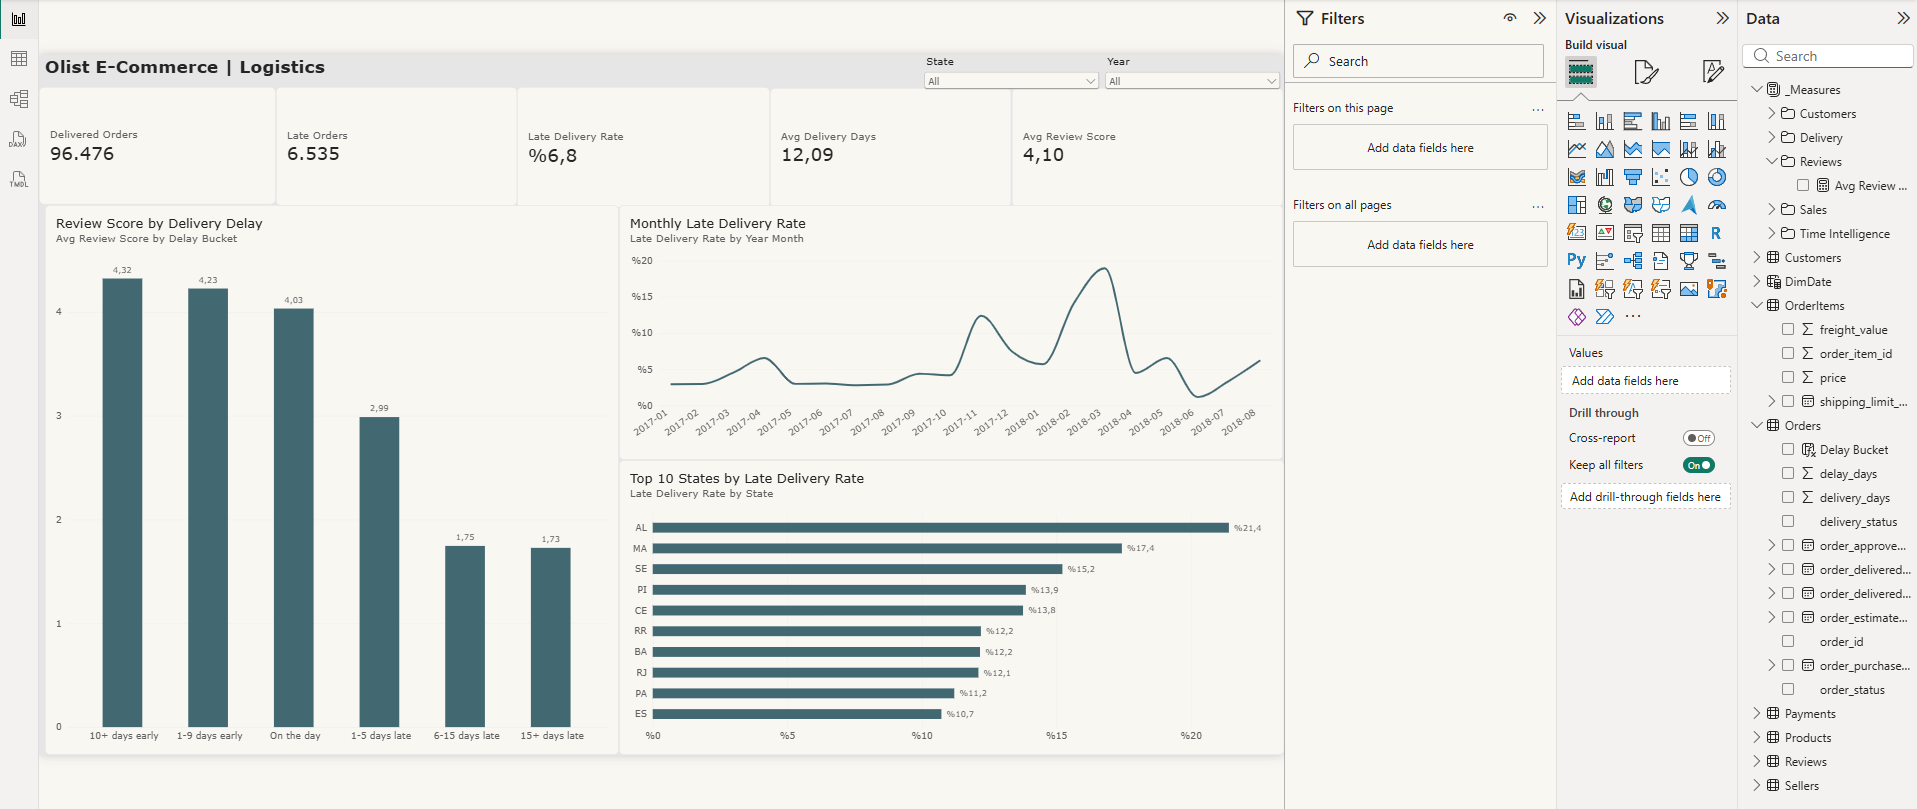

The page's visual inventory and layout, read from the dashboard file:
{"tool":"powerbi","page":{"name":"Logistics","canvas":[1920,1080],"ordinal":1},"visuals":[{"type":"textbox","box":[9.3,0,462.8,281.4],"z":0},{"type":"cardVisual","fields":{"Data":["_Measures.Delivered Orders"]},"box":[0,48.8,365.1,181.4],"z":1000},{"type":"cardVisual","fields":{"Data":["_Measures.Avg Delivery Days"]},"box":[1127.9,51.2,372.1,183.7],"z":2000},{"type":"cardVisual","fields":{"Data":["_Measures.Avg Review Score"]},"box":[1500,51.2,418.6,183.7],"z":3000},{"type":"cardVisual","fields":{"Data":["_Measures.Late Orders"]},"box":[365.5,49.3,372.1,183.7],"z":4000},{"type":"cardVisual","fields":{"Data":["_Measures.Late Delivery Rate"]},"box":[737.2,48.8,390.7,186],"z":5000},{"type":"lineChart","title":"Monthly Late Delivery Rate","fields":{"Category":["DimDate.Year Month"],"Y":["_Measures.Late Delivery Rate"]},"box":[894.5,231.3,1024,393.3],"z":6000},{"type":"clusteredBarChart","title":"Top 10 States by Late Delivery Rate","fields":{"Category":["Customers.customer_state"],"Y":["_Measures.Late Delivery Rate"]},"box":[894.5,624.6,1025.5,454.9],"z":7000},{"type":"slicer","fields":{"Values":["Customers.customer_state"]},"box":[1360.6,0,279.9,279.9],"z":8000},{"type":"slicer","fields":{"Values":["DimDate.Year"]},"box":[1640,0,280,280],"z":9000},{"type":"clusteredColumnChart","title":"Review Score by Delivery Delay","fields":{"Category":["Orders.Delay Bucket"],"Y":["_Measures.Avg Review Score"]},"box":[9.3,231.3,885.2,848.2],"z":9001}]}

Visuals, with their boxes on the page's 1920x1080 design canvas (x1, y1, x2, y2). These are canvas units, not pixel positions in the 1917x809 screenshot, which may show the page scaled, cropped or inside an application window:
textbox: (9, 0, 472, 281)
cardVisual - _Measures.Delivered Orders: (0, 49, 365, 230)
cardVisual - _Measures.Avg Delivery Days: (1128, 51, 1500, 235)
cardVisual - _Measures.Avg Review Score: (1500, 51, 1919, 235)
cardVisual - _Measures.Late Orders: (366, 49, 738, 233)
cardVisual - _Measures.Late Delivery Rate: (737, 49, 1128, 235)
"Monthly Late Delivery Rate" lineChart: (894, 231, 1918, 625)
"Top 10 States by Late Delivery Rate" clusteredBarChart: (894, 625, 1920, 1080)
slicer - Customers.customer_state: (1361, 0, 1640, 280)
slicer - DimDate.Year: (1640, 0, 1920, 280)
"Review Score by Delivery Delay" clusteredColumnChart: (9, 231, 894, 1080)
